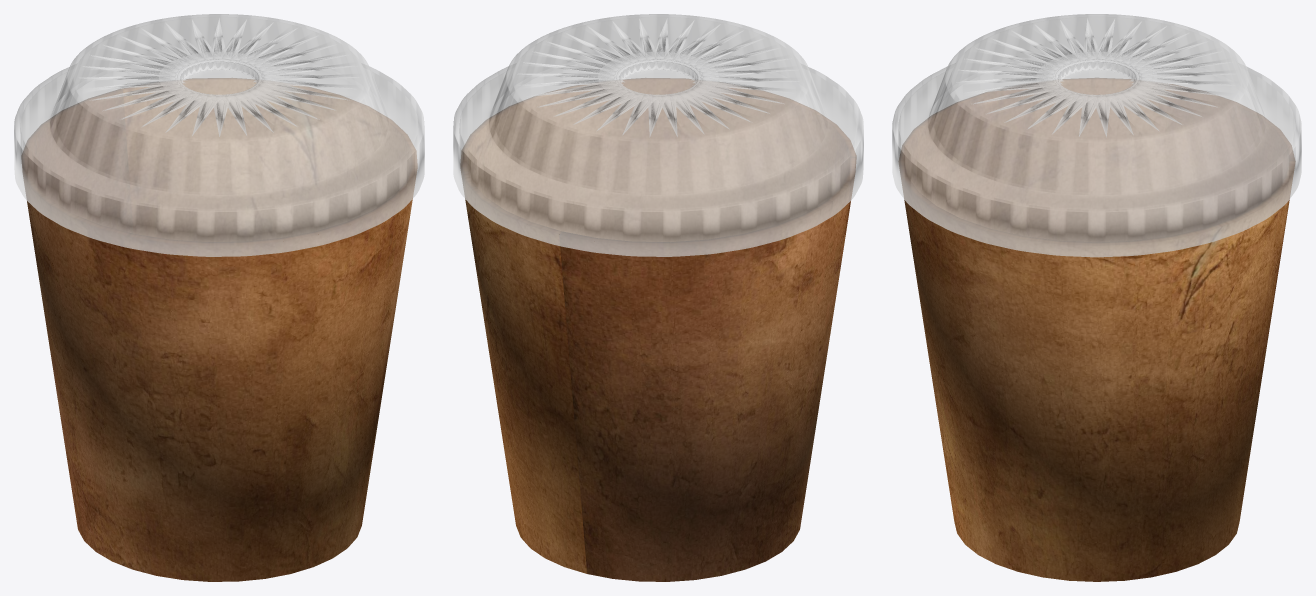
The picture shows the model from 3 angles, left to right: view 1: azimuth 30°, elevation 25°; view 2: azimuth 150°, elevation 25°; view 3: azimuth 270°, elevation 25°; orthographic projection.
Parts seen in each view (by area): view 1: Cylinder, Cylinder.001; view 2: Cylinder, Cylinder.001; view 3: Cylinder, Cylinder.001.
Part boxes in pixels (box(x1,y1,x2,y2)): Cylinder: box(21, 78, 417, 581); Cylinder.001: box(14, 14, 424, 256); Cylinder: box(460, 78, 856, 581); Cylinder.001: box(453, 14, 863, 256); Cylinder: box(898, 78, 1295, 581); Cylinder.001: box(892, 14, 1301, 257).
Size of the model in its own units: 4.47 by 5.34 by 4.46.
2 materials, 1 textured.
